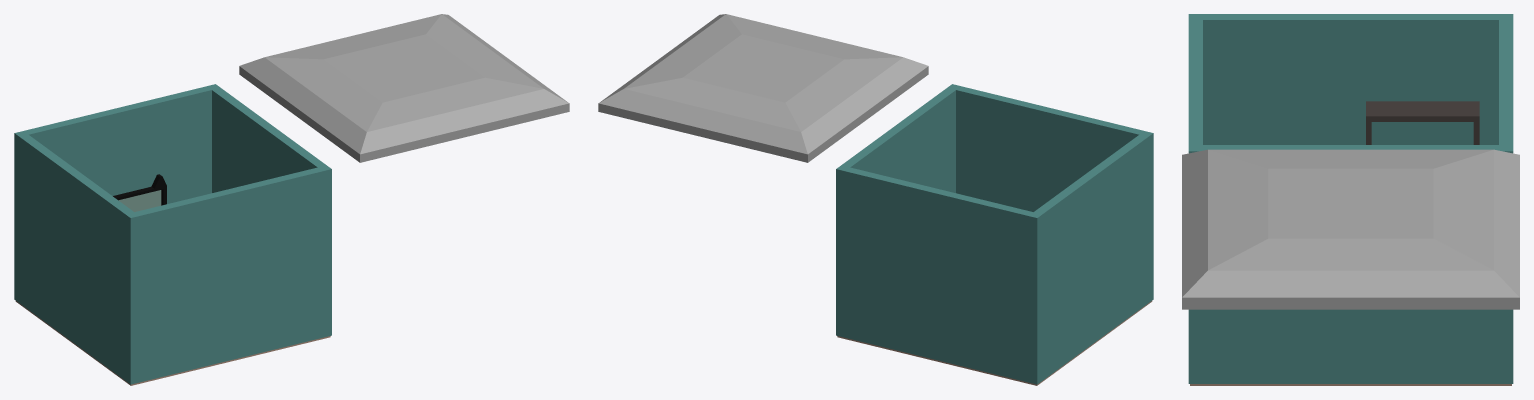
The model's file is CATROOMv2.fbx.
The picture shows the model from 3 angles, left to right: view 1: azimuth 30°, elevation 25°; view 2: azimuth 150°, elevation 25°; view 3: azimuth 270°, elevation 25°; orthographic projection. The views are drawn at different scales.
Visible parts, largest first — view 1: pPipe2, pCube2, pCube8, pCube9; view 2: pPipe2, pCube2, pCube9; view 3: pPipe2, pCube2, pCube5, pCube9.
Boxes of the visible parts, left/top/right/bottom form: pPipe2: left=14, top=84, right=331, bottom=384; pCube2: left=239, top=14, right=569, bottom=162; pCube8: left=113, top=174, right=166, bottom=211; pCube9: left=15, top=301, right=330, bottom=385; pPipe2: left=836, top=84, right=1153, bottom=384; pCube2: left=598, top=14, right=928, bottom=162; pCube9: left=837, top=301, right=1152, bottom=385; pPipe2: left=1188, top=14, right=1513, bottom=383; pCube2: left=1182, top=149, right=1519, bottom=309; pCube5: left=1366, top=101, right=1479, bottom=144; pCube9: left=1190, top=384, right=1511, bottom=385.
Bounding box in the file's own units: 943 × 402 × 453.
